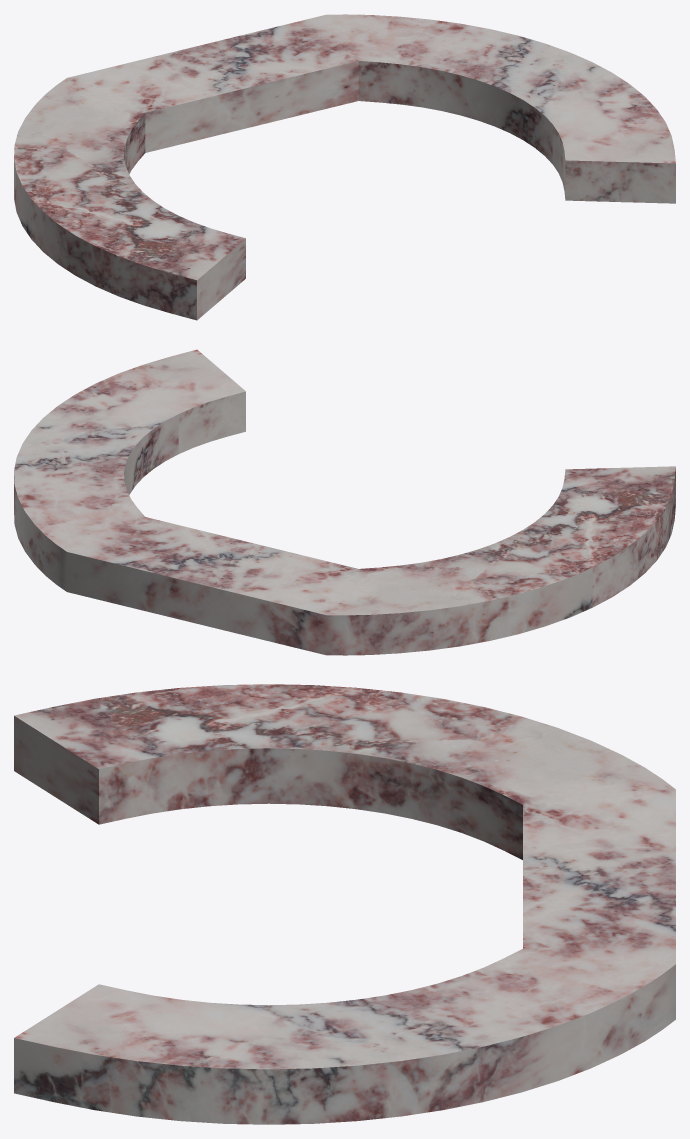
File: Baluster.glb
3 views of the same model, one above another, from view 1: azimuth 30°, elevation 25°; view 2: azimuth 150°, elevation 25°; view 3: azimuth 270°, elevation 25° (orthographic). The views are drawn at different scales.
Parts seen in each view (by area): view 1: Cylinder; view 2: Cylinder; view 3: Cylinder.
Part boxes in pixels (left/top/right/bottom): Cylinder: left=14, top=14, right=675, bottom=320; Cylinder: left=14, top=349, right=675, bottom=655; Cylinder: left=14, top=684, right=675, bottom=1124.
Size of the model in its own units: 0.2981 by 0.02 by 0.2165.
Materials: 1 (1 with a texture image).
